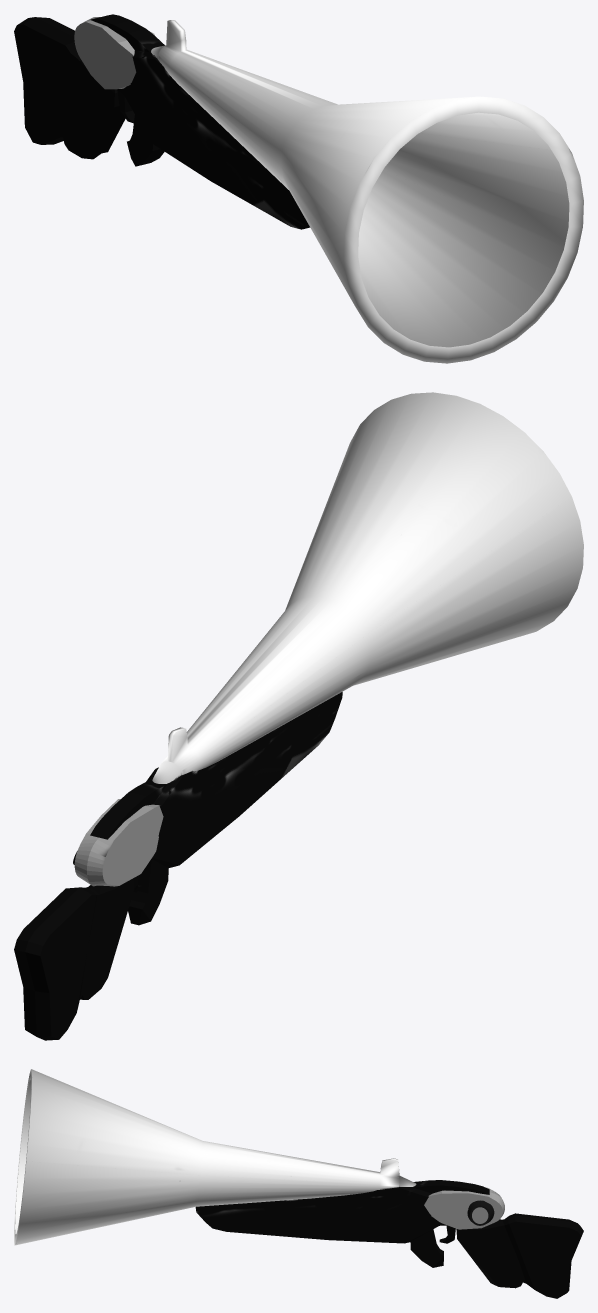
File: blundergust.obj
The picture shows the model from 3 angles, top to bottom: view 1: azimuth 30°, elevation 25°; view 2: azimuth 150°, elevation 25°; view 3: azimuth 270°, elevation 25°; orthographic projection. The views are drawn at different scales.
Parts seen in each view (by area): view 1: Stock; view 2: Stock; view 3: Stock.
Boxes of the visible parts, left/top/right/bottom form: Stock: left=14, top=14, right=583, bottom=363; Stock: left=14, top=392, right=583, bottom=1040; Stock: left=14, top=1069, right=583, bottom=1298.
Size of the model in its own units: 2 by 2.73 by 6.42.
